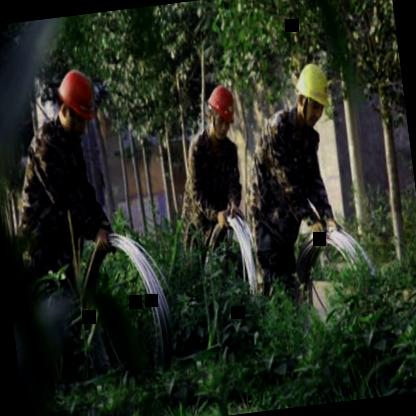helmet: (51, 62, 104, 140), (290, 56, 336, 133), (202, 80, 242, 138)
